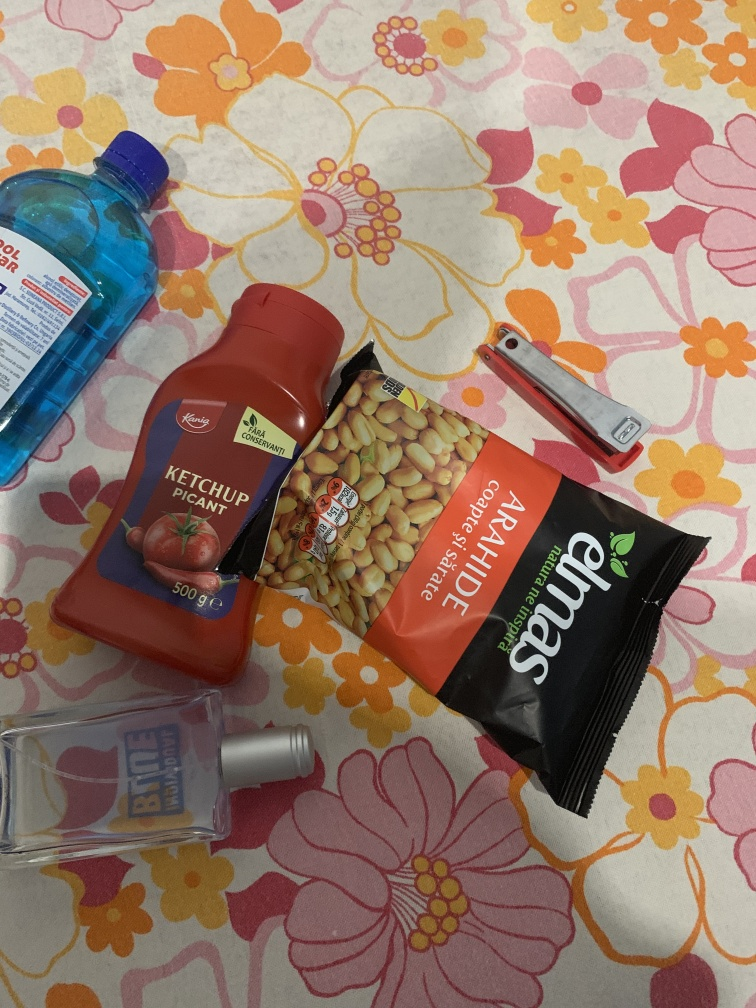ketchup: (41, 280, 349, 697)
peanuts: (281, 349, 714, 818)
